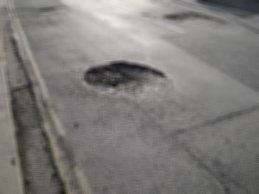pothole: (9, 81, 66, 190), (76, 60, 183, 102), (161, 9, 229, 27), (37, 6, 58, 12)
